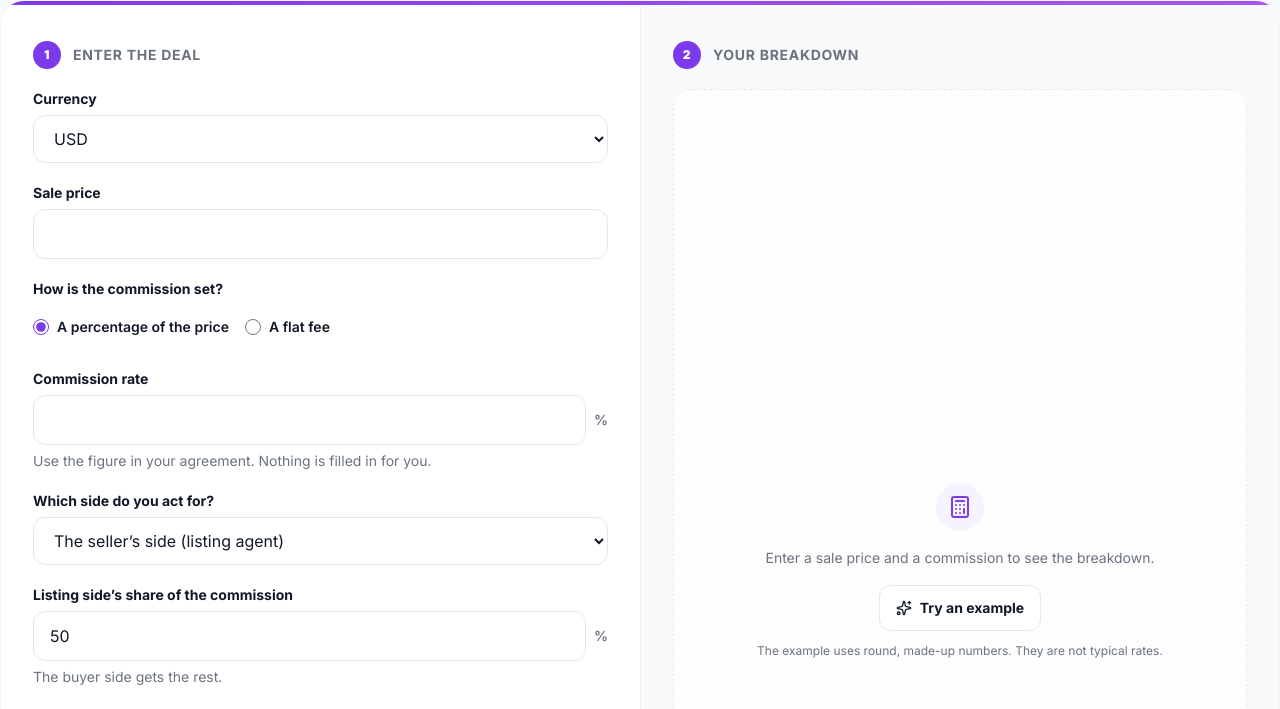
Test: CommissionCalculator › copies a plain-text summary
In the field labelled "Sale price": {"x": 320, "y": 234} [33,209,608,259], type "1000000"
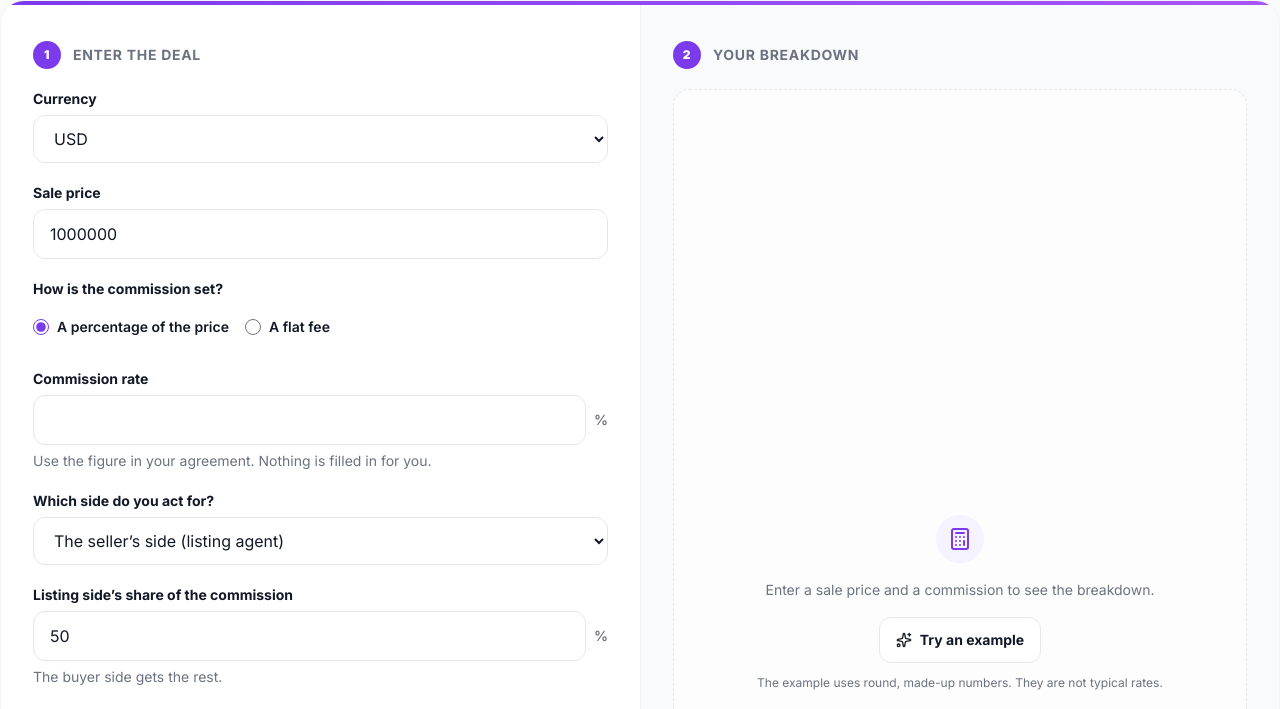
In the field labelled "Commission rate": {"x": 309, "y": 420} [33,395,586,445], type "2"
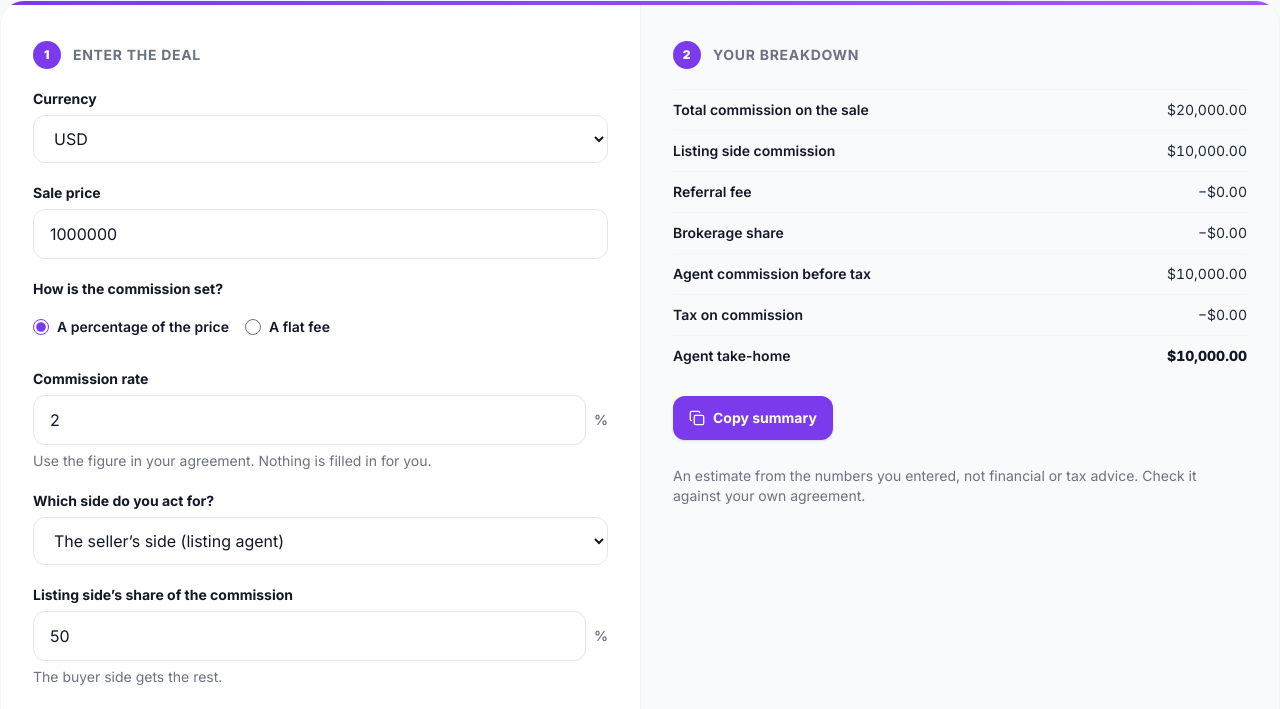
Click the button "Copy summary": {"x": 753, "y": 418} [673,396,833,440]
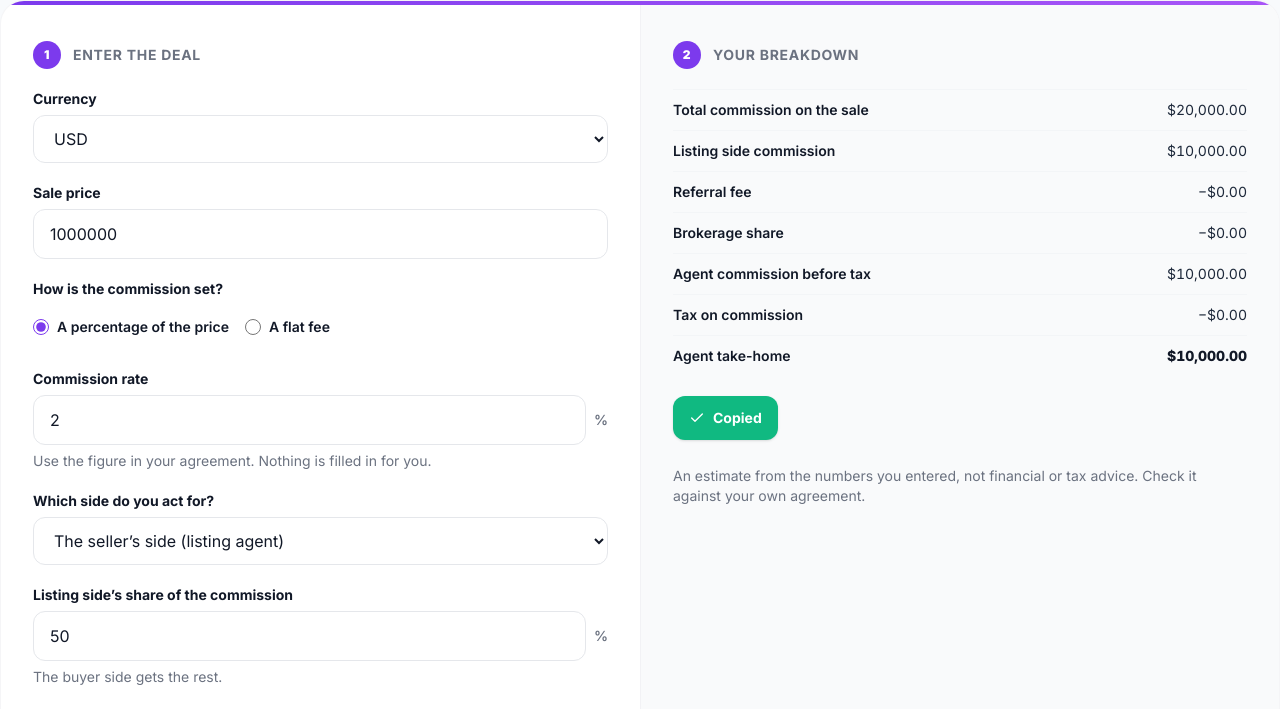
Check: the button "Copied" is shown, box [673,396,778,440]
